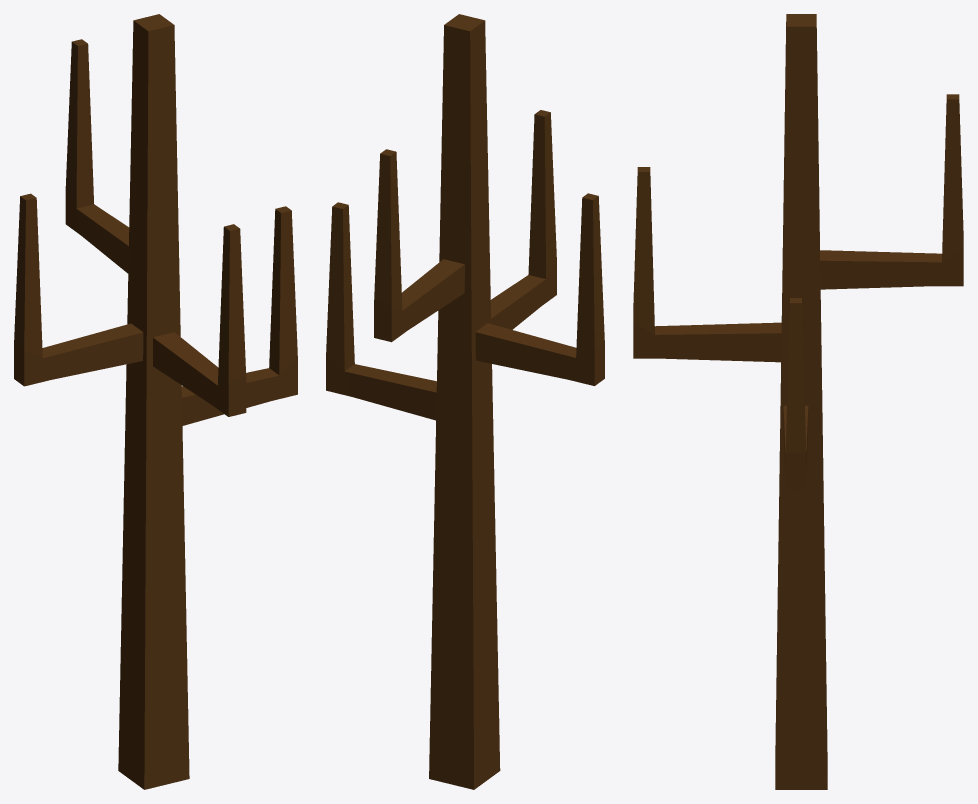
The model's file is WinterTree_02.fbx.
The picture shows the model from 3 angles, left to right: view 1: azimuth 30°, elevation 25°; view 2: azimuth 150°, elevation 25°; view 3: azimuth 270°, elevation 25°; orthographic projection.
Parts seen in each view (by area): view 1: WinterTree_02; view 2: WinterTree_02; view 3: WinterTree_02.
Part boxes in pixels (x1,y1,x2,y2): WinterTree_02: [14, 14, 297, 789]; WinterTree_02: [326, 14, 604, 789]; WinterTree_02: [633, 14, 963, 789].
Bounding box in the file's own units: 0.3138 × 0.832 × 0.3287.
